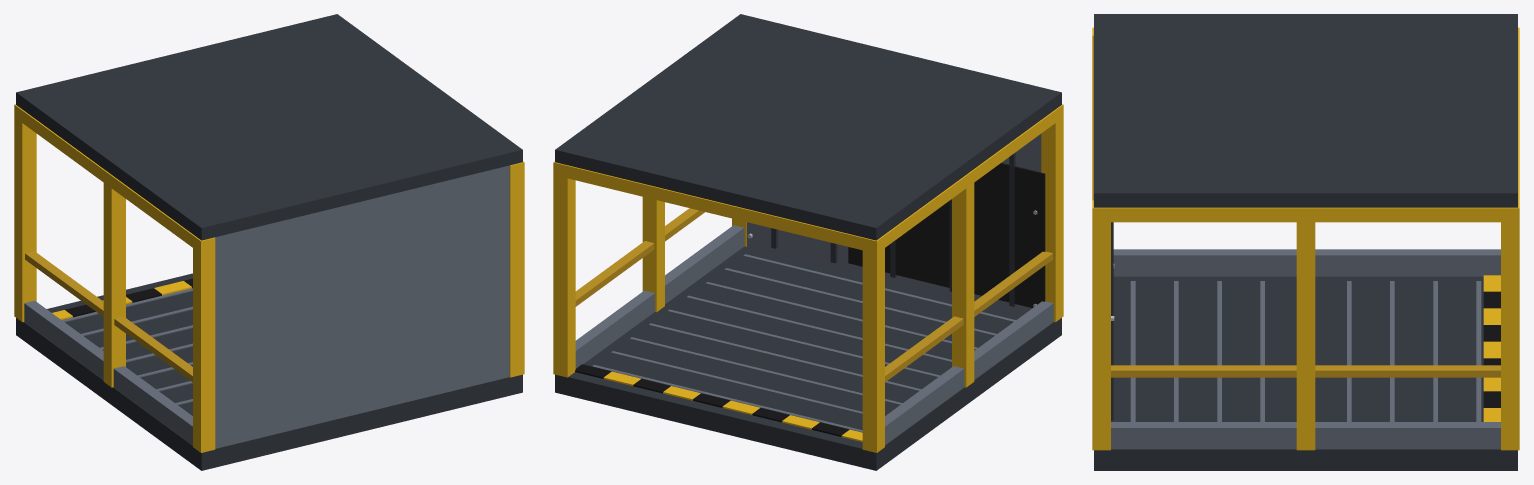
The model's file is lift_cage.glb.
3 views of the same model, side by side, from view 1: azimuth 30°, elevation 25°; view 2: azimuth 150°, elevation 25°; view 3: azimuth 270°, elevation 25° (orthographic). The views are drawn at different scales.
Parts seen in each view (by area): view 1: lift_cage; view 2: lift_cage; view 3: lift_cage.
Boxes of the visible parts, x1,y1,x2,y2 form: lift_cage: (14, 14, 524, 470); lift_cage: (553, 14, 1063, 470); lift_cage: (1092, 14, 1519, 470).
Size of the model in its own units: 5.44 by 3.9 by 5.44.
1 material, 1 textured.
